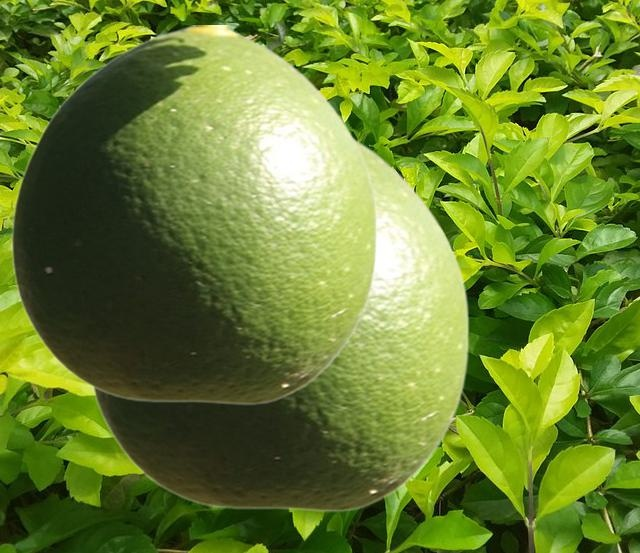dalandan: (89, 134, 469, 511), (10, 25, 377, 404)
